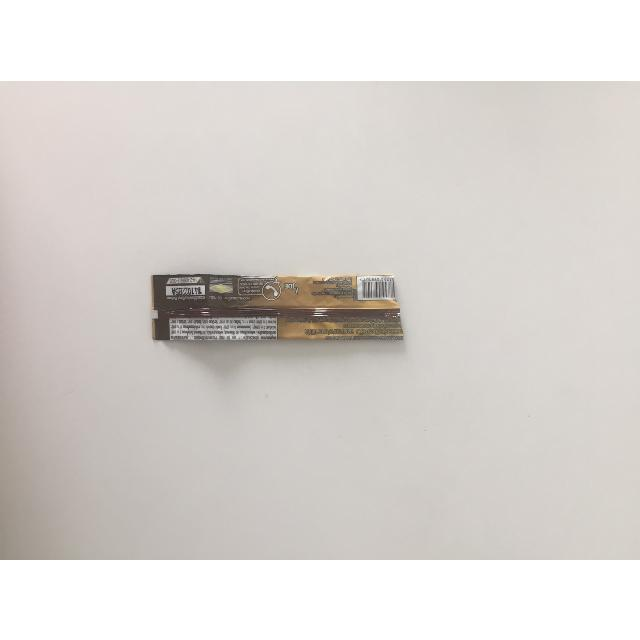Paquete de plastico: (148, 270, 414, 358)
